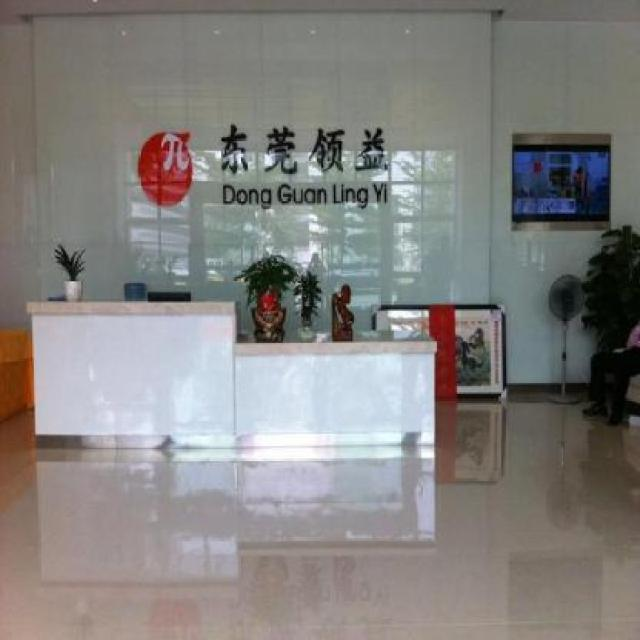frontdesk: (23, 285, 447, 466)
